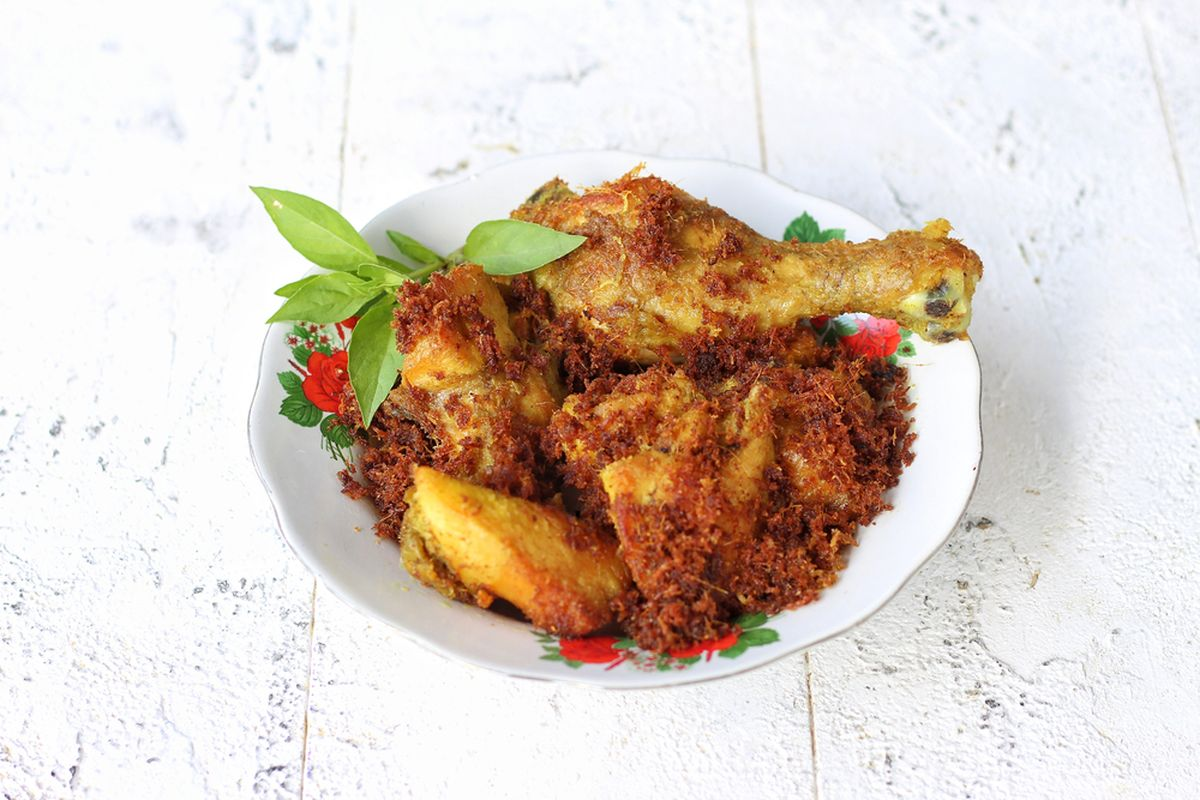buah_sayur_lainnya: (315, 233, 398, 330)
daging: (425, 326, 823, 549)
